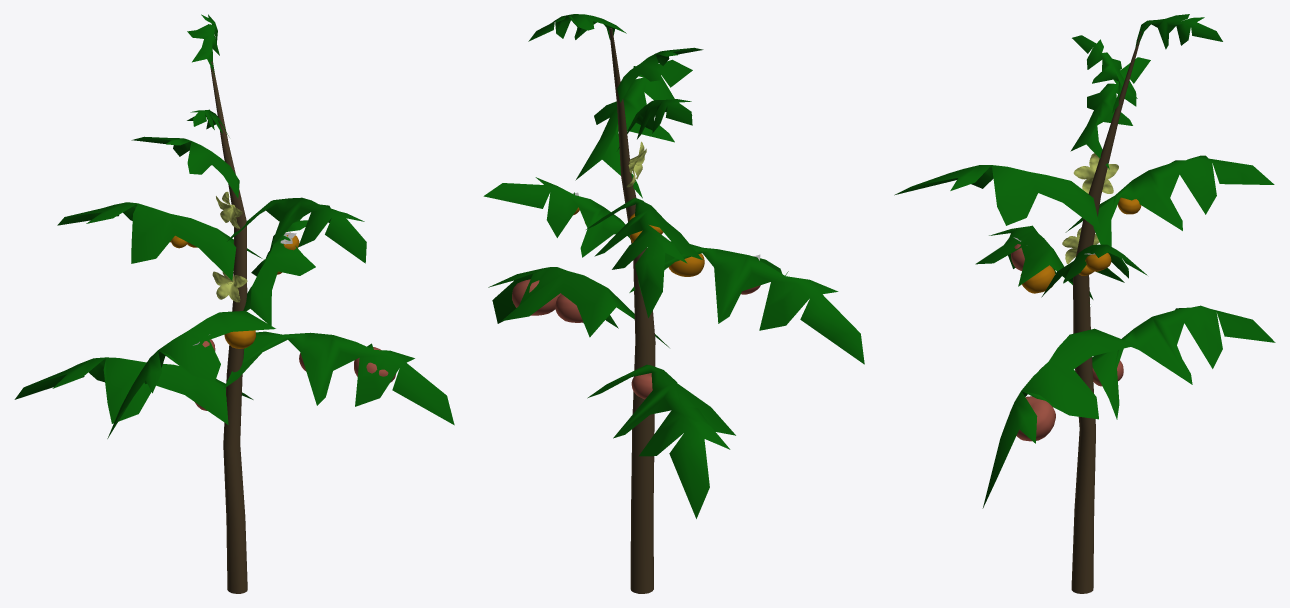
File: healthyplantlvl3.fbx
The picture shows the model from 3 angles, left to right: view 1: azimuth 30°, elevation 25°; view 2: azimuth 150°, elevation 25°; view 3: azimuth 270°, elevation 25°; orthographic projection. The views are drawn at different scales.
Parts seen in each view (by area): view 1: LEVEL3; view 2: LEVEL3; view 3: LEVEL3.
Boxes of the visible parts, x1,y1,x2,y2 form: LEVEL3: (14,14,454,593); LEVEL3: (483,14,864,593); LEVEL3: (894,14,1275,593).
Bounding box in the file's own units: 0.921 × 1.4 × 0.8328.
